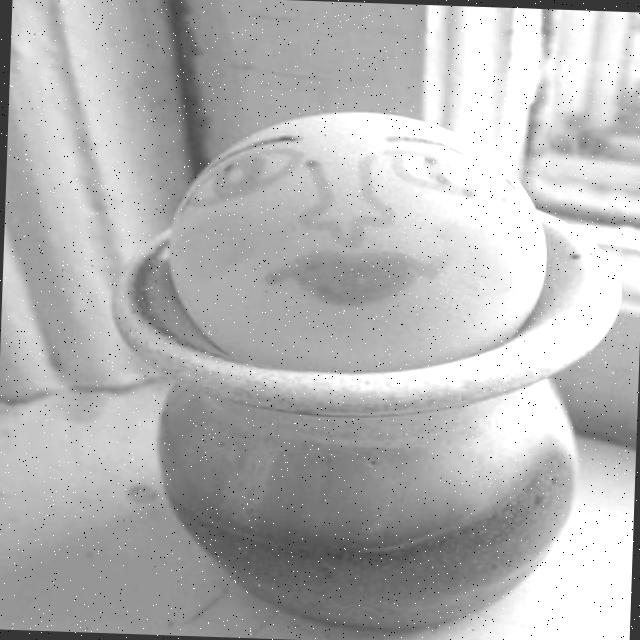ping-pong-ball: (165, 104, 552, 388)
